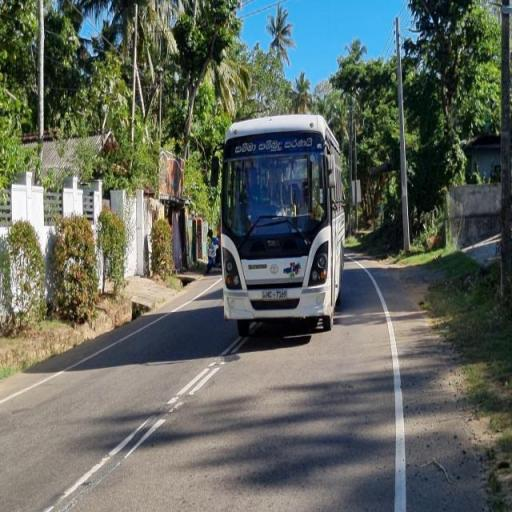double_white_line: (58, 415, 166, 507)
